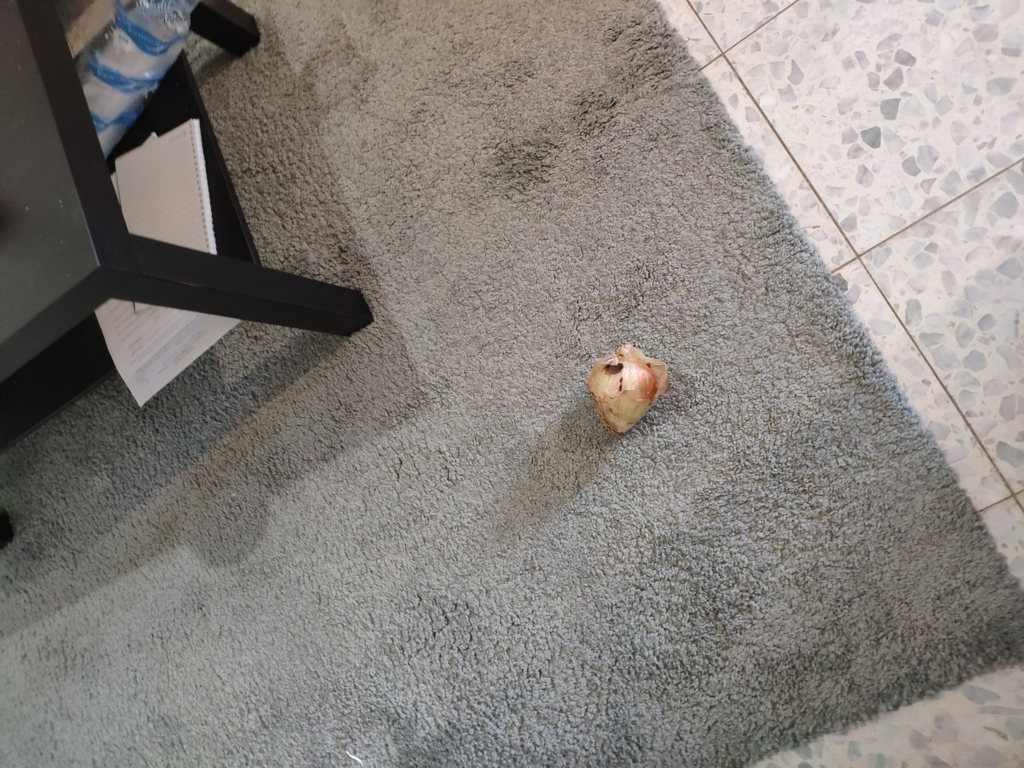Onion: (577, 341, 683, 457)
